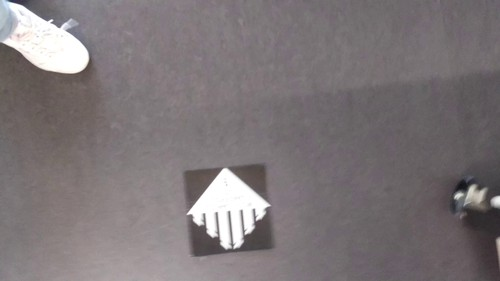misgoods: (184, 168, 273, 252)
